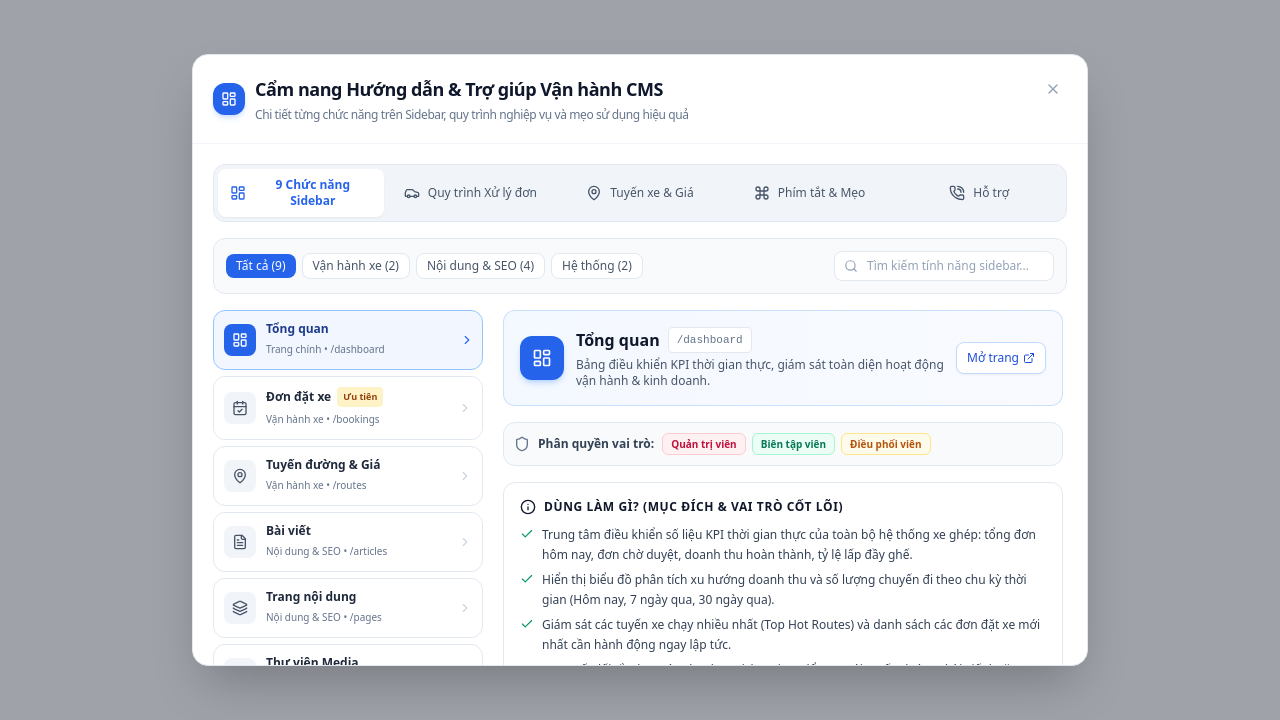
QuickHelpModal Component & Sidebar Guides › chuyển đổi xem chi tiết hướng dẫn của Đơn đặt xe khi bấm vào danh sách
Note: Bấm chọn chức năng "Đơn đặt xe" trong danh sách sidebar
Click the button "Đơn đặt xe Ưu tiên Vận hành xe • /bookings": point(348, 408) [213,376,483,440]
(page scrolled)
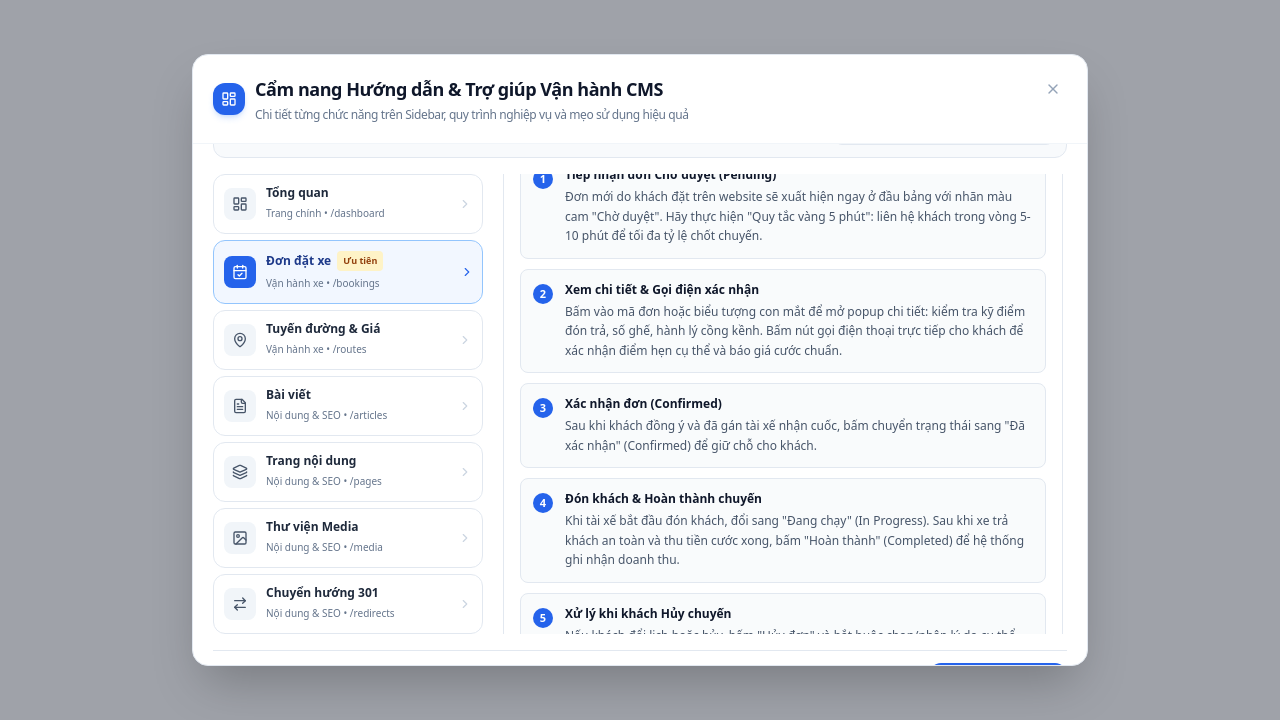
Expected: the heading "Xem chi tiết & Gọi điện xác nhận" is shown, [565,280,759,298]
Expected: the heading "Xác nhận đơn (Confirmed)" is shown, [565,395,722,412]
